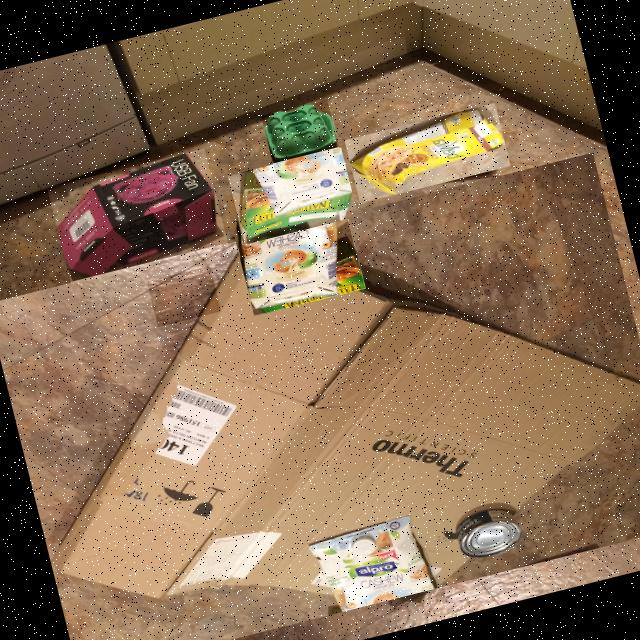Corrugated carton: (51, 239, 640, 598)
Drink carton: (234, 175, 340, 310)
Egg carton: (264, 104, 337, 163)
Food Can: (150, 271, 217, 321)
Other carton: (58, 153, 217, 277), (350, 109, 504, 194), (241, 171, 352, 239)
